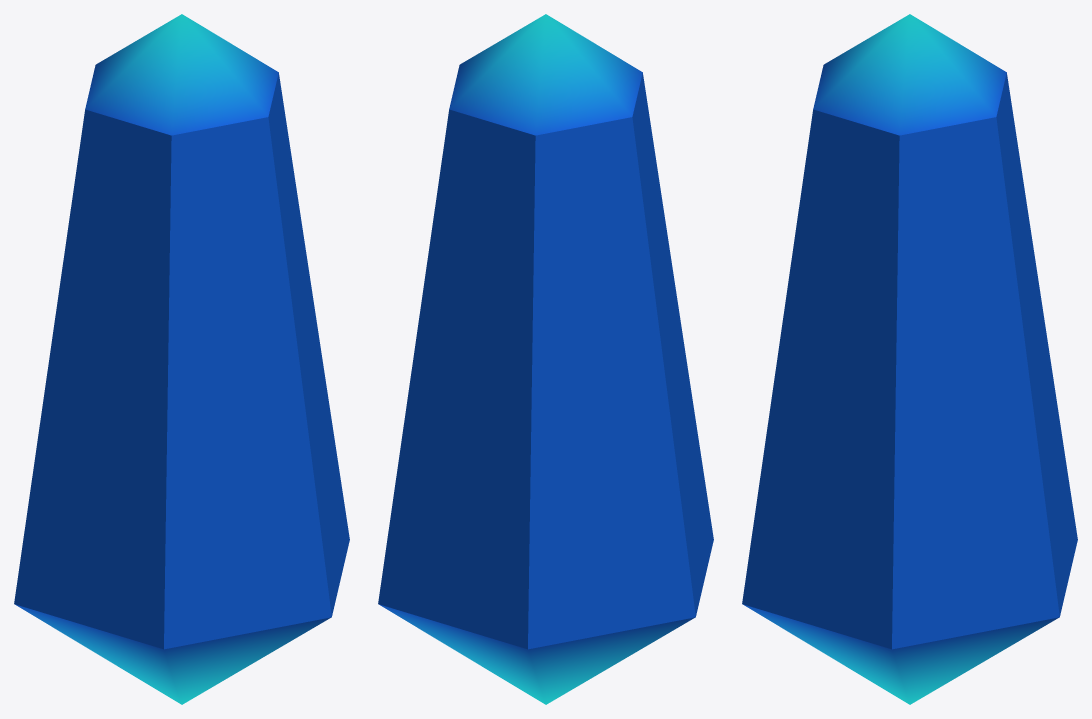
Rendered from CollectCrystalSpinning.fbx.
3 views of the same model, side by side, from view 1: azimuth 30°, elevation 25°; view 2: azimuth 150°, elevation 25°; view 3: azimuth 270°, elevation 25° (orthographic).
Parts seen in each view (by area): view 1: pCylinder1; view 2: pCylinder1; view 3: pCylinder1.
Part boxes in pixels (left/top/right/bottom): pCylinder1: left=14, top=14, right=349, bottom=704; pCylinder1: left=378, top=14, right=713, bottom=704; pCylinder1: left=742, top=14, right=1077, bottom=704.
Bounding box in the file's own units: 0.0123 × 0.0256 × 0.0113.
